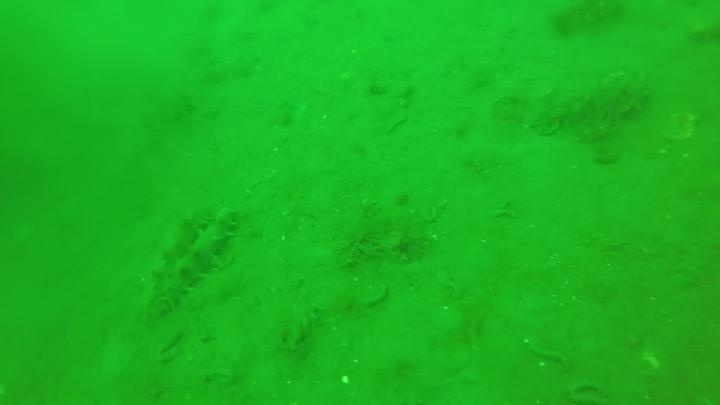holothurian: (151, 206, 242, 318), (501, 73, 652, 137), (140, 209, 214, 293)
